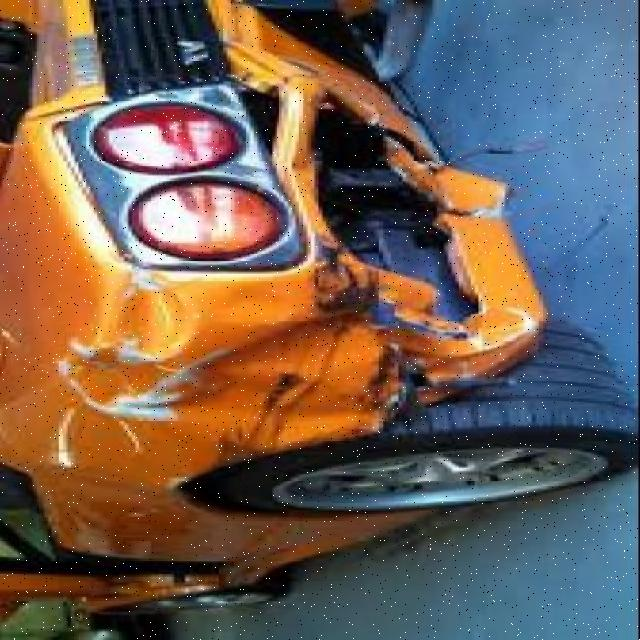damage: (30, 9, 554, 473)
